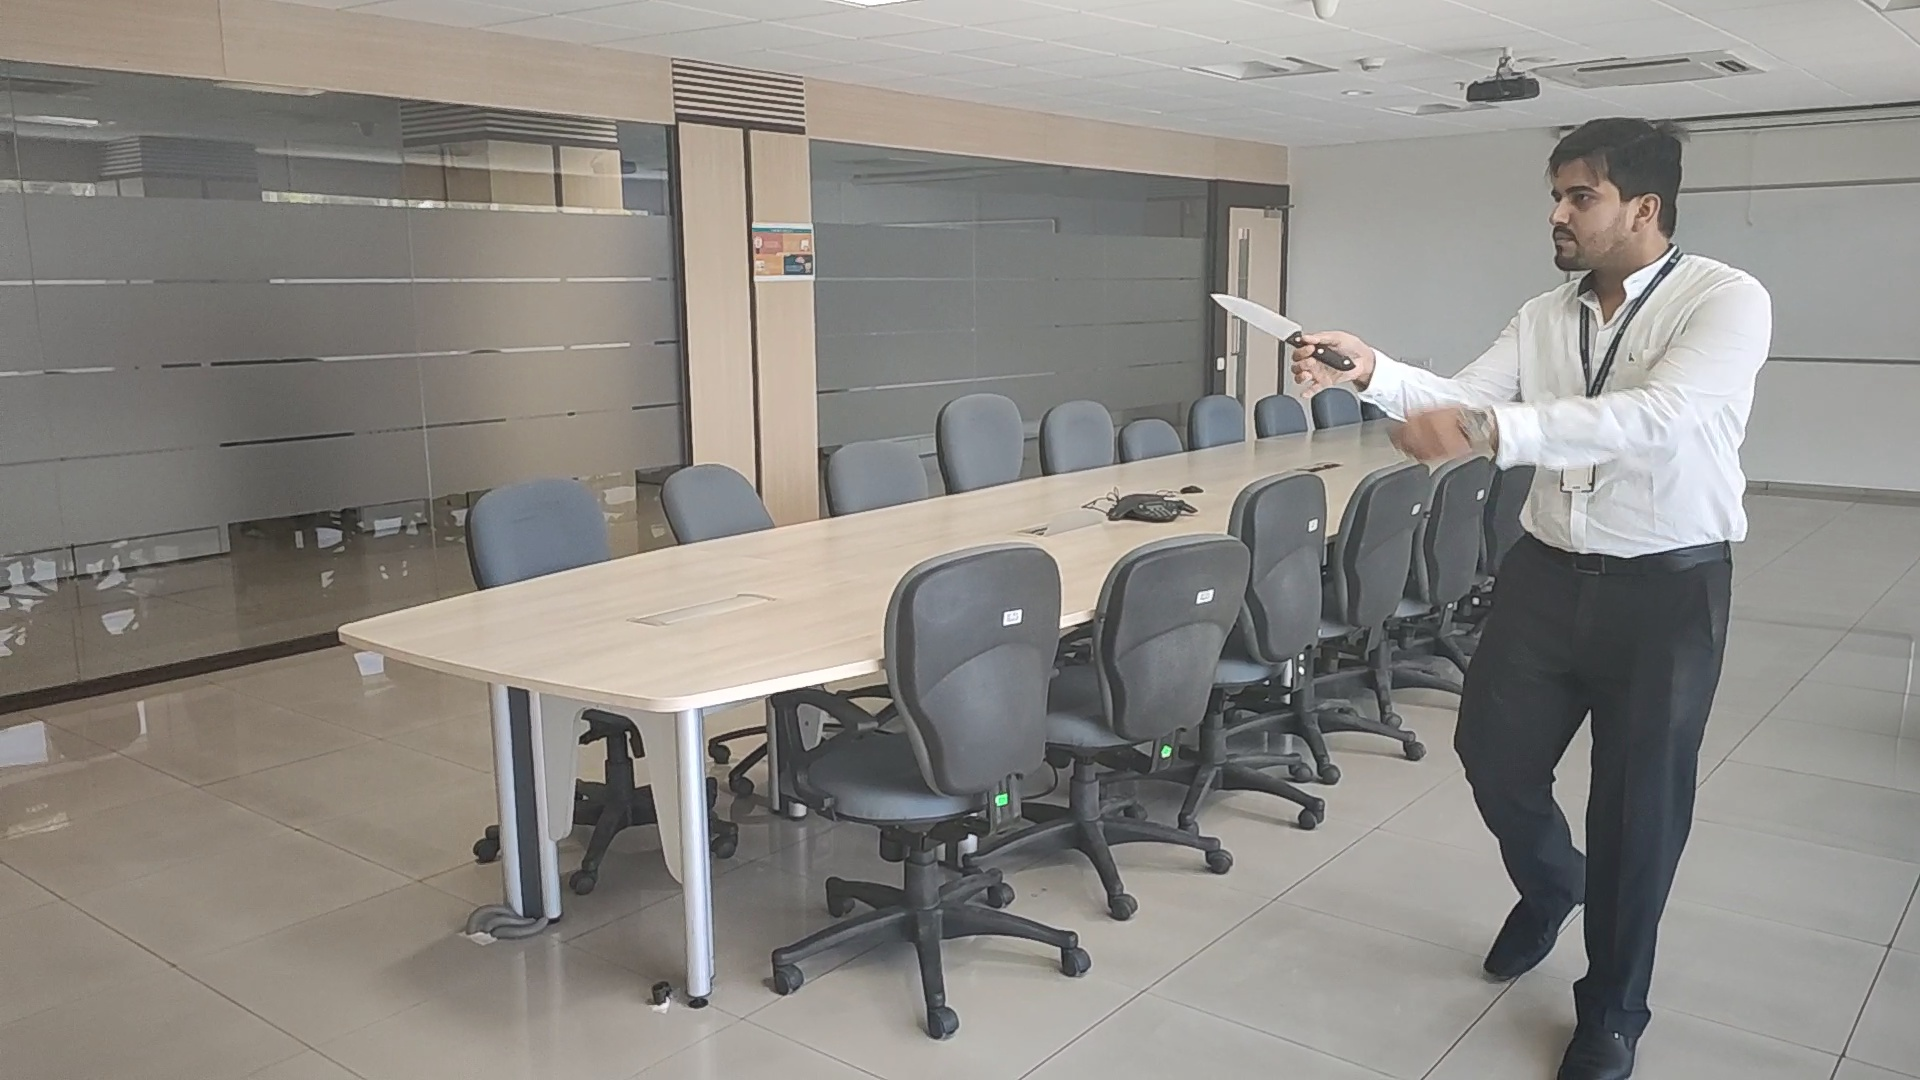gun: (1207, 287, 1305, 351)
knife: (1208, 291, 1304, 345)
